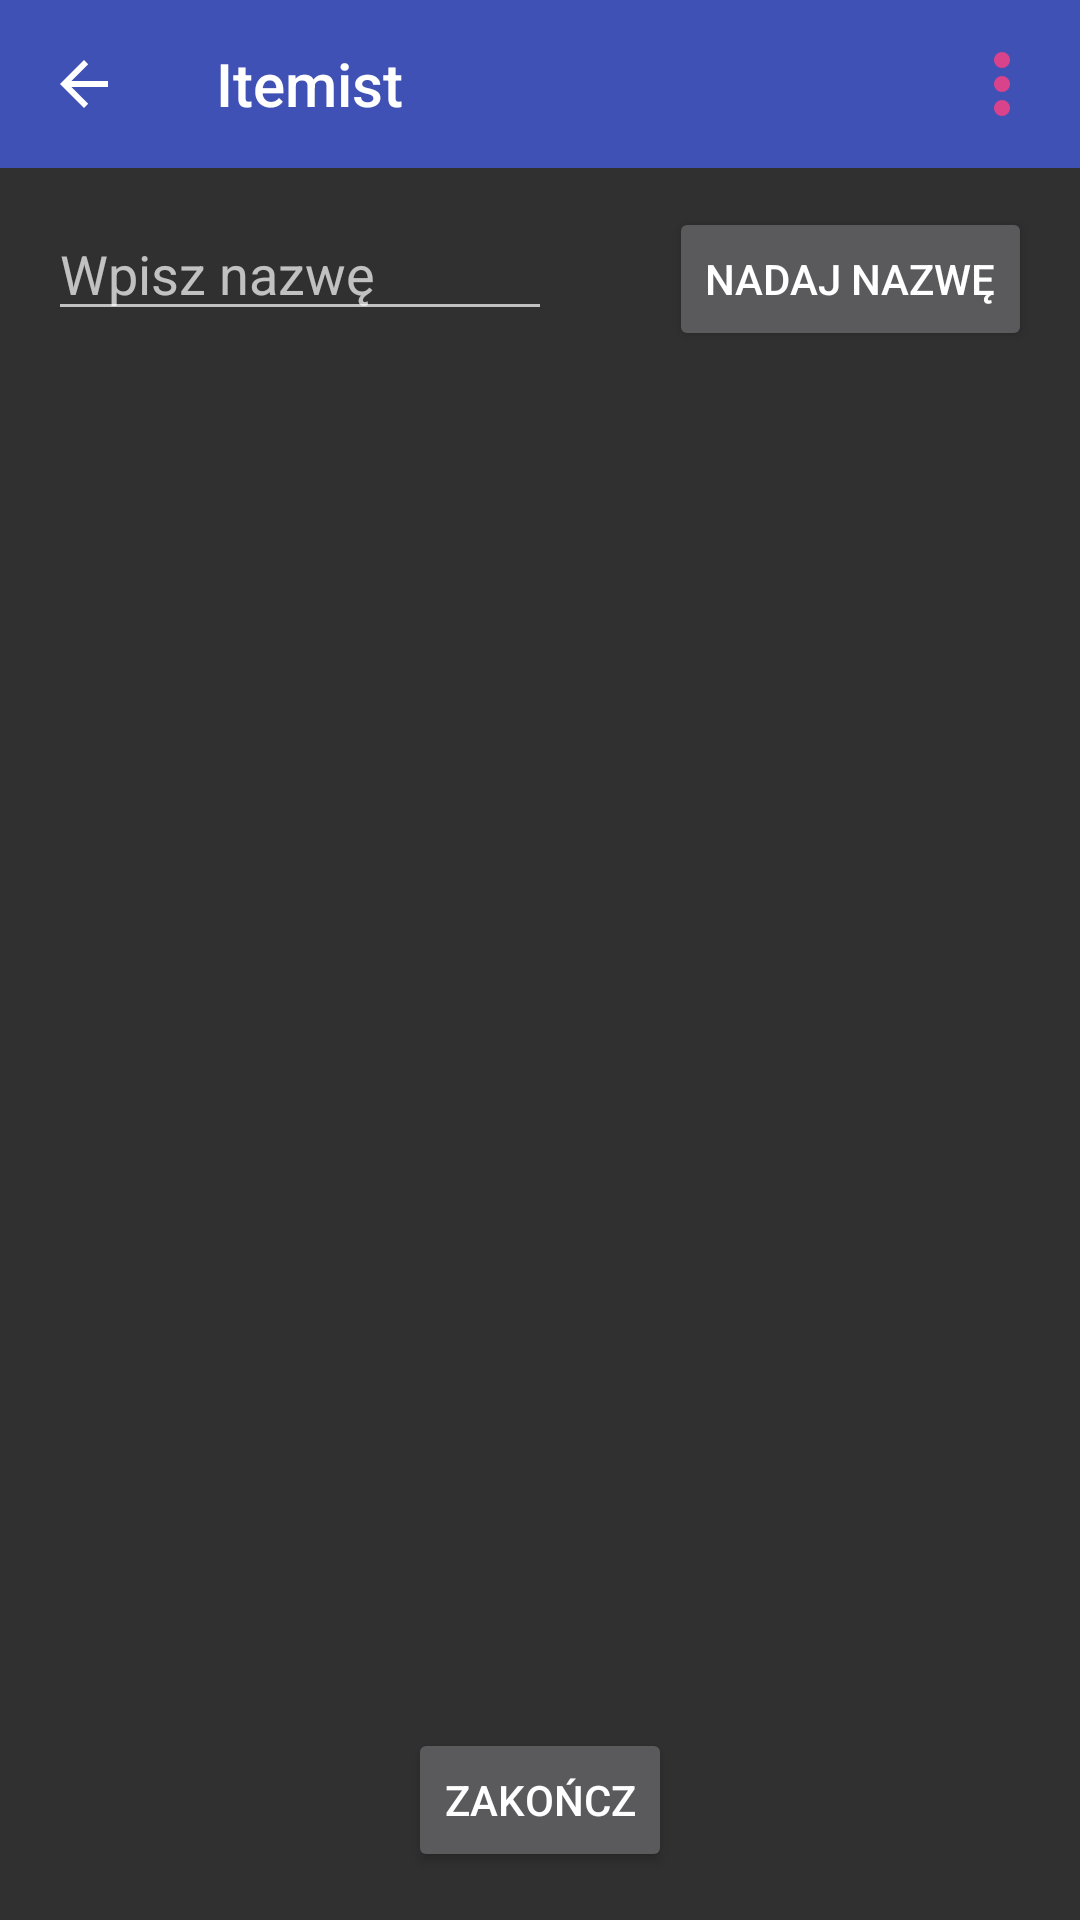

Icon bounding boxes for this 1080px×1920px phone screenshot, format (x1, y1, x2, y2):
Przyciski wiecej: (994, 52, 1010, 116)
